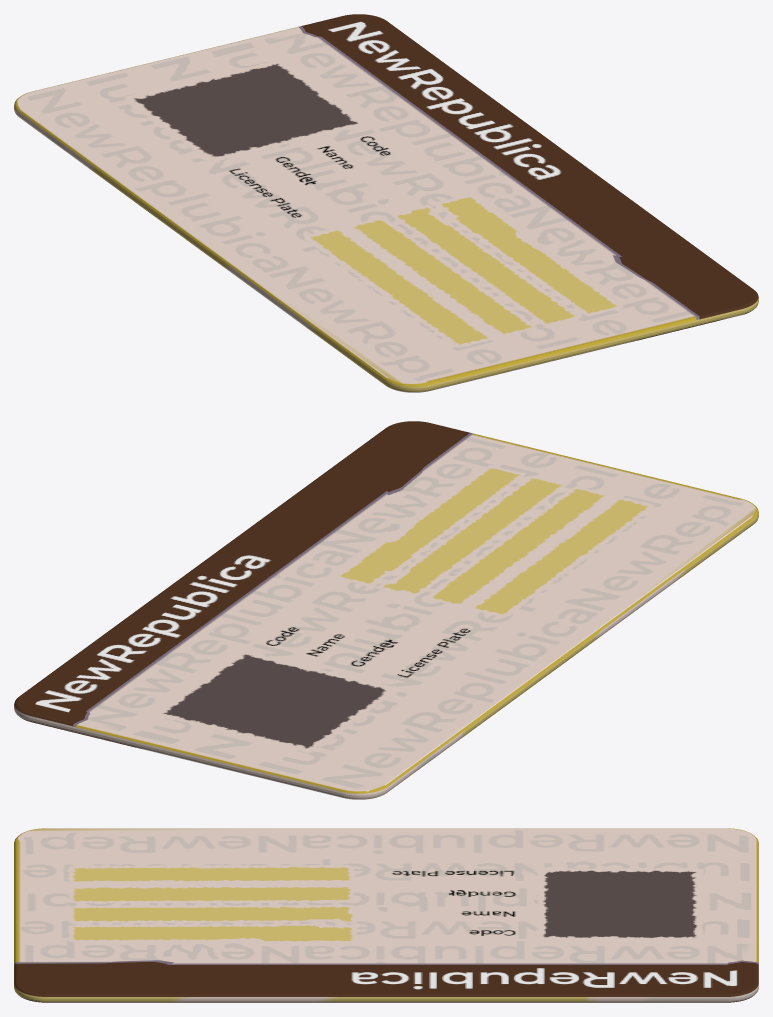
Rendered from NewRepublicaCard.fbx.
3 views of the same model, one above another, from view 1: azimuth 30°, elevation 25°; view 2: azimuth 150°, elevation 25°; view 3: azimuth 270°, elevation 25° (orthographic). The views are drawn at different scales.
Parts seen in each view (by area): view 1: Plane.001; view 2: Plane.001; view 3: Plane.001.
Boxes of the visible parts, x1,y1,x2,y2 form: Plane.001: (14,14,758,392); Plane.001: (14,421,758,799); Plane.001: (14,828,758,1002).
Bounding box in the file's own units: 0.16 × 0.00371 × 0.2996.
